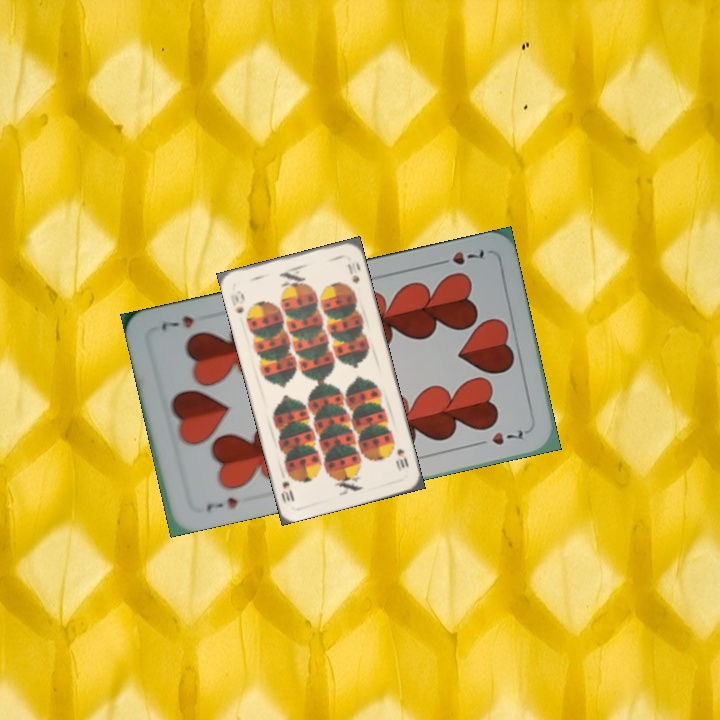H7: (431, 245, 489, 269), (202, 493, 240, 515)
S10: (226, 286, 247, 316), (393, 444, 411, 474)
